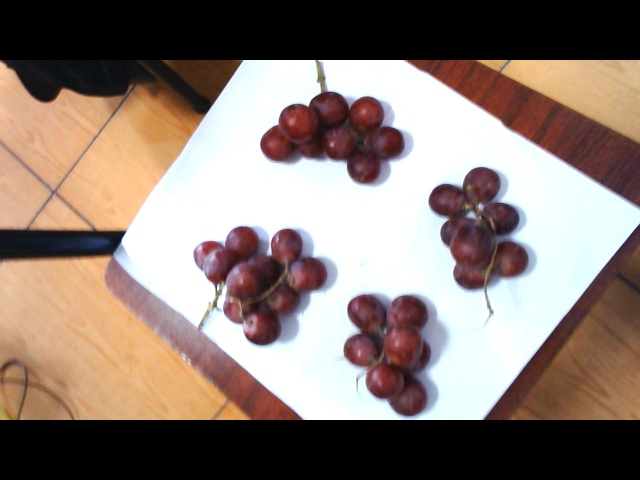grape: (196, 215, 328, 347), (421, 171, 540, 288), (259, 95, 419, 179), (334, 281, 435, 408)
